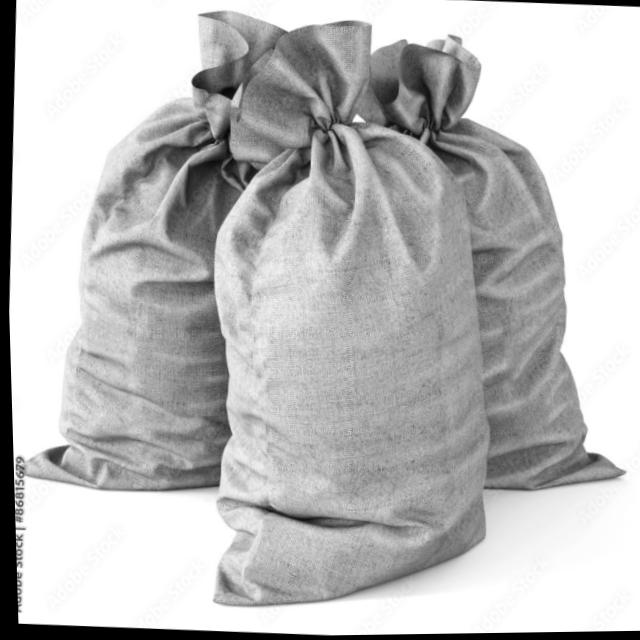sack: (188, 13, 513, 620), (5, 0, 299, 499), (334, 27, 640, 501)
